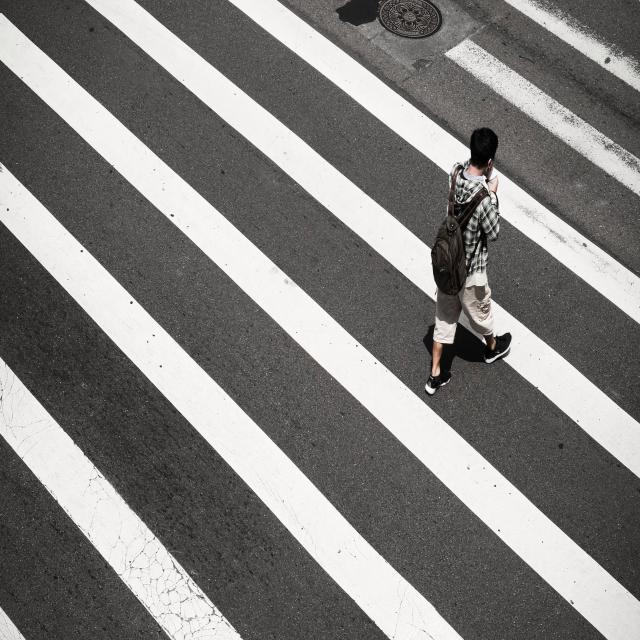adult: (424, 127, 512, 395)
